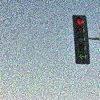traffic lights: (73, 15, 92, 66)
